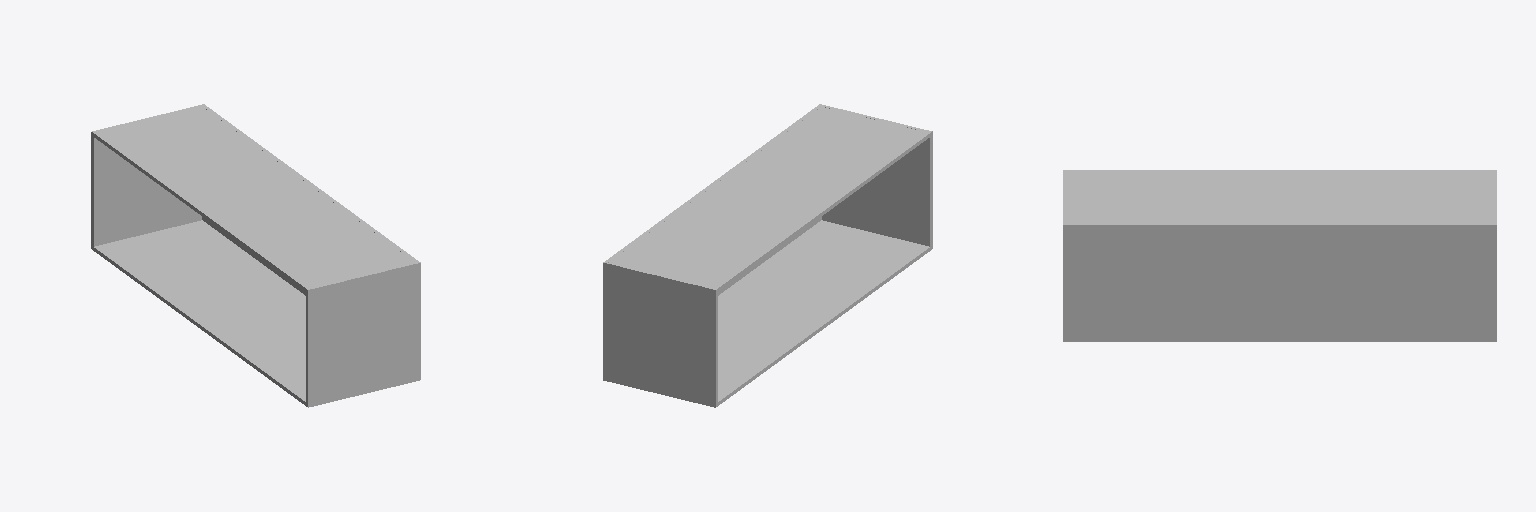
The model's file is ExtralargeRoomBase.obj.
The picture shows the model from 3 angles: view 1: azimuth 30°, elevation 25°; view 2: azimuth 150°, elevation 25°; view 3: azimuth 270°, elevation 25°; orthographic projection.
Parts seen in each view (by area): view 1: Back_Cube; view 2: Back_Cube; view 3: Back_Cube.
Boxes of the visible parts, <box> form: Back_Cube: <box>91,104,420,407</box>; Back_Cube: <box>603,104,932,407</box>; Back_Cube: <box>1063,170,1496,341</box>.
Size of the model in its own units: 6.02 by 6.01 by 20.02.